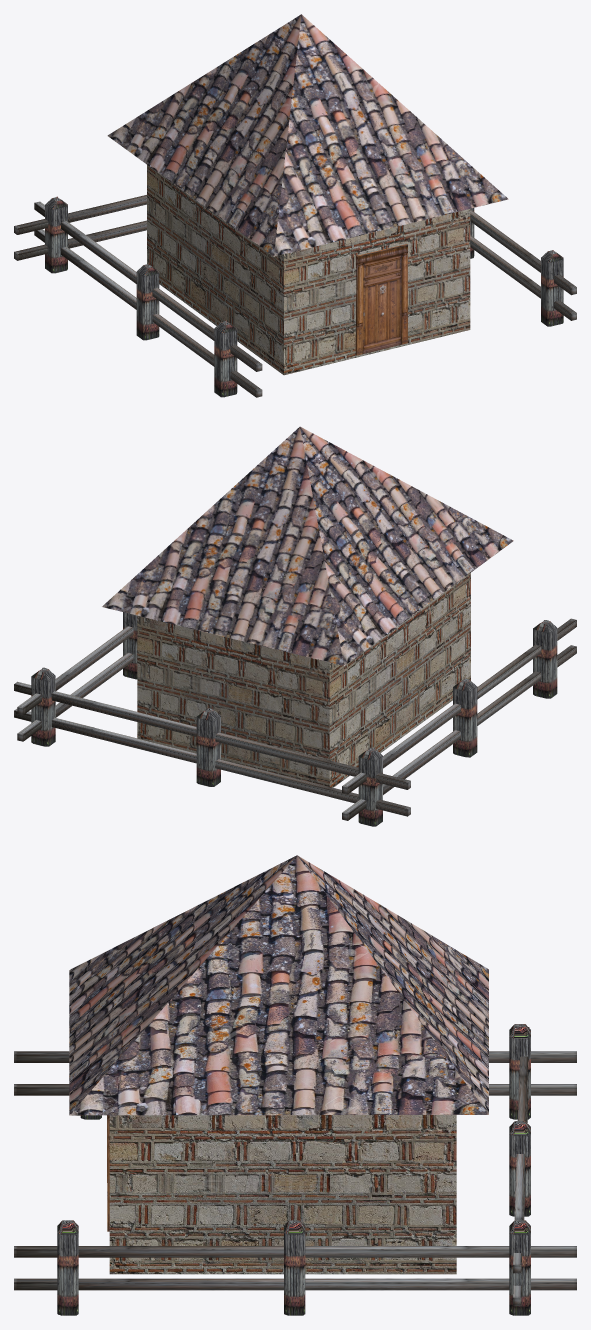
File: casaMedieva.fbx
3 views of the same model, one above another, from view 1: azimuth 30°, elevation 25°; view 2: azimuth 150°, elevation 25°; view 3: azimuth 270°, elevation 25° (orthographic). The views are drawn at different scales.
Parts seen in each view (by area): view 1: techo, casa, puerta, Cube_2, Cube_3, valla_6, valla_5, valla_4, valla, Cube_4, Cube_1, Cube (+1 smaller); view 2: techo, casa, Cube_4, Cube_5, Cube_2, Cube_3, valla_3, valla_5, valla_6, valla_4, valla_2, Cube (+2 smaller); view 3: techo, casa, Cube_1, Cube, valla, valla_1, valla_2, valla_3, valla_4, Cube_3, Cube_2, Cube_4.
Part boxes in pixels (box(x1,y1,x2,y2)): techo: box(107, 14, 508, 256); casa: box(147, 165, 470, 375); puerta: box(355, 244, 407, 355); Cube_2: box(34, 201, 262, 371); Cube_3: box(34, 229, 262, 397); valla_6: box(214, 320, 237, 397); valla_5: box(136, 263, 159, 340); valla_4: box(45, 196, 67, 273); valla: box(541, 250, 563, 326); Cube_4: box(14, 195, 146, 234); Cube_1: box(470, 235, 576, 320); Cube: box(470, 209, 576, 295); techo: box(102, 426, 513, 665); casa: box(137, 573, 470, 787); Cube_4: box(14, 681, 410, 789); Cube_5: box(14, 709, 410, 816); Cube_2: box(342, 618, 576, 794); Cube_3: box(342, 645, 576, 820); valla_3: box(196, 708, 220, 786); valla_5: box(453, 678, 477, 757); valla_6: box(533, 620, 557, 698); valla_4: box(358, 747, 382, 826); valla_2: box(31, 667, 55, 746); Cube: box(17, 626, 133, 714); techo: box(69, 855, 488, 1115); casa: box(109, 1115, 456, 1274); Cube_1: box(14, 1278, 576, 1290); Cube: box(14, 1246, 576, 1257); valla: box(57, 1220, 78, 1315); valla_1: box(284, 1220, 305, 1315); valla_2: box(509, 1220, 530, 1315); valla_3: box(509, 1121, 530, 1216); valla_4: box(509, 1024, 530, 1119); Cube_3: box(14, 1084, 576, 1095); Cube_2: box(14, 1051, 576, 1062); Cube_4: box(513, 1027, 529, 1273).
Size of the model in its own units: 2196 by 1552 by 2196.
5 materials, 5 textured.
